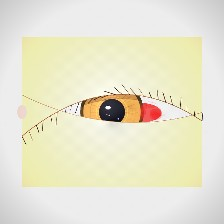hemorrhage_spot: (107, 87, 170, 138)
